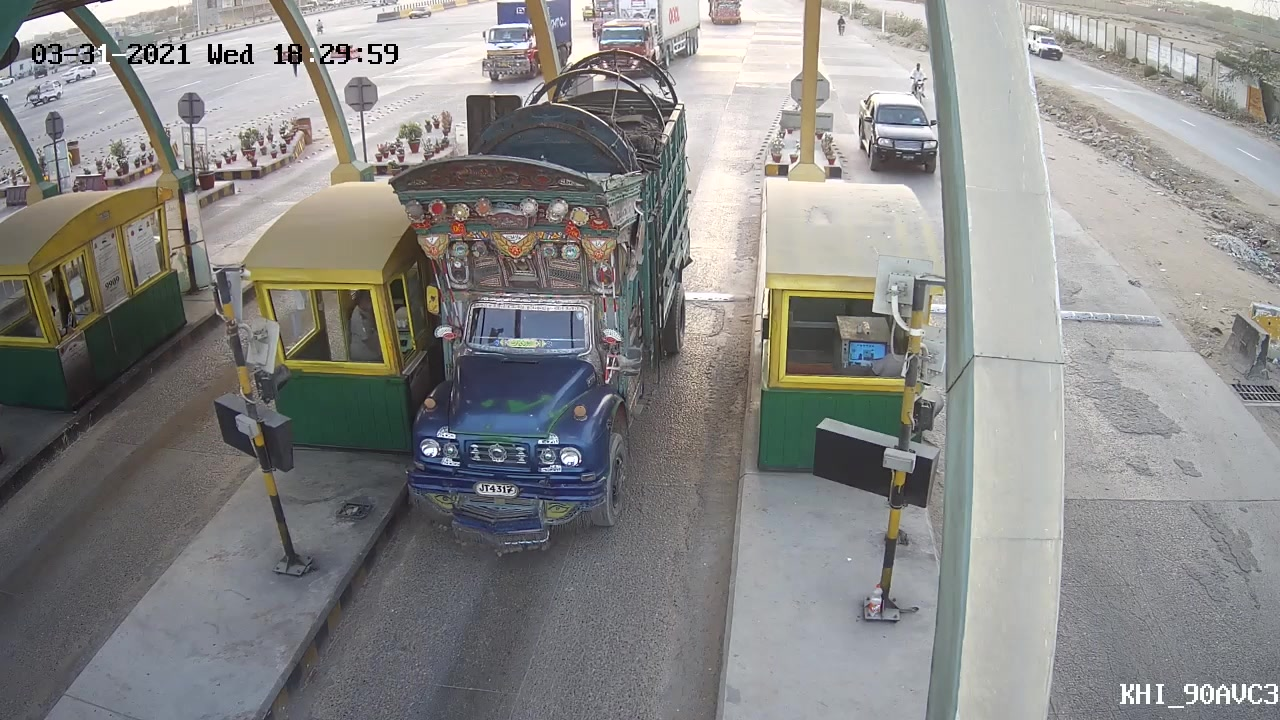F5: (400, 64, 692, 549)
